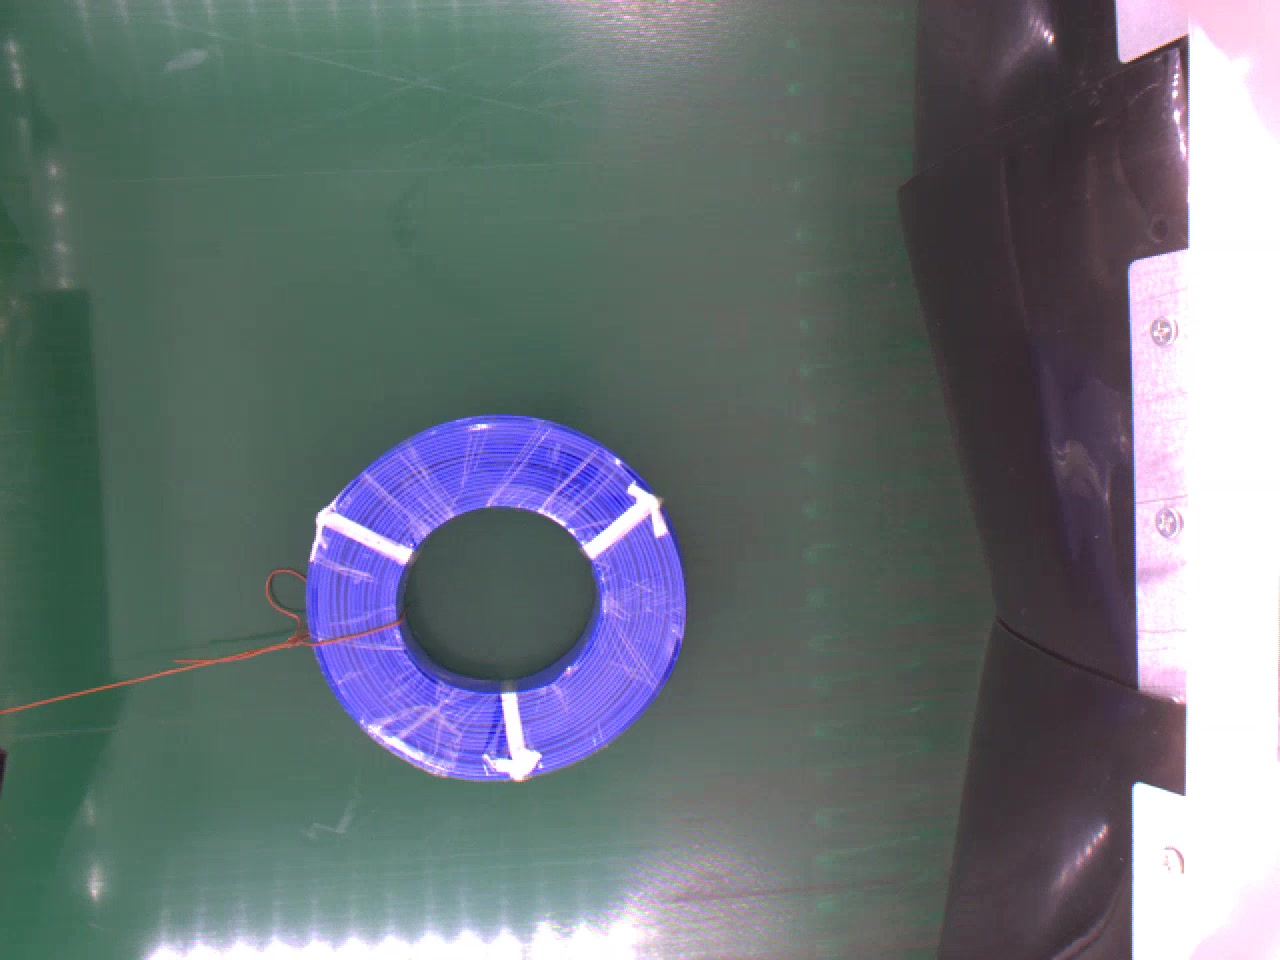blue: (306, 415, 685, 790)
